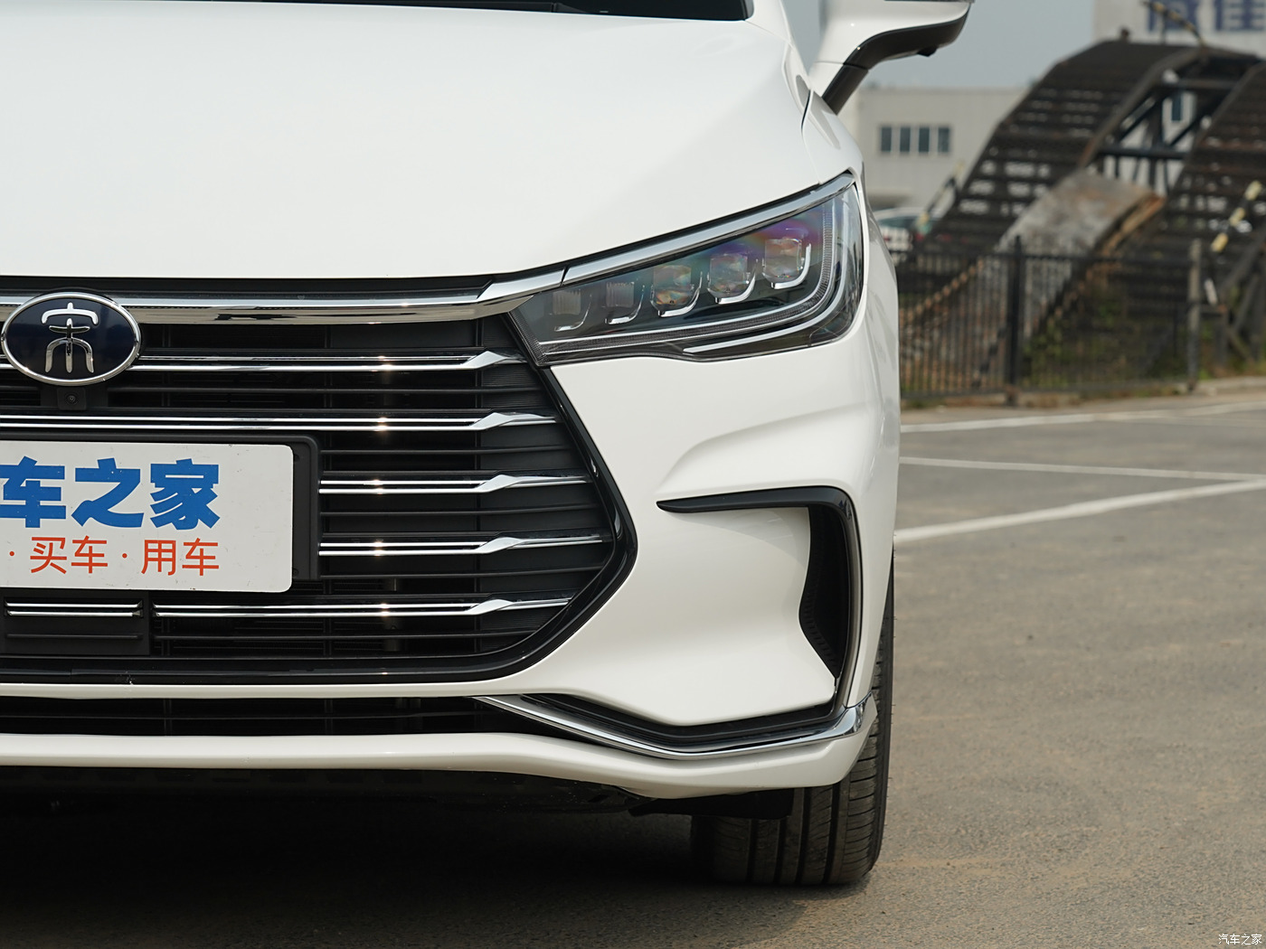BYD Song: (1, 293, 140, 384)
